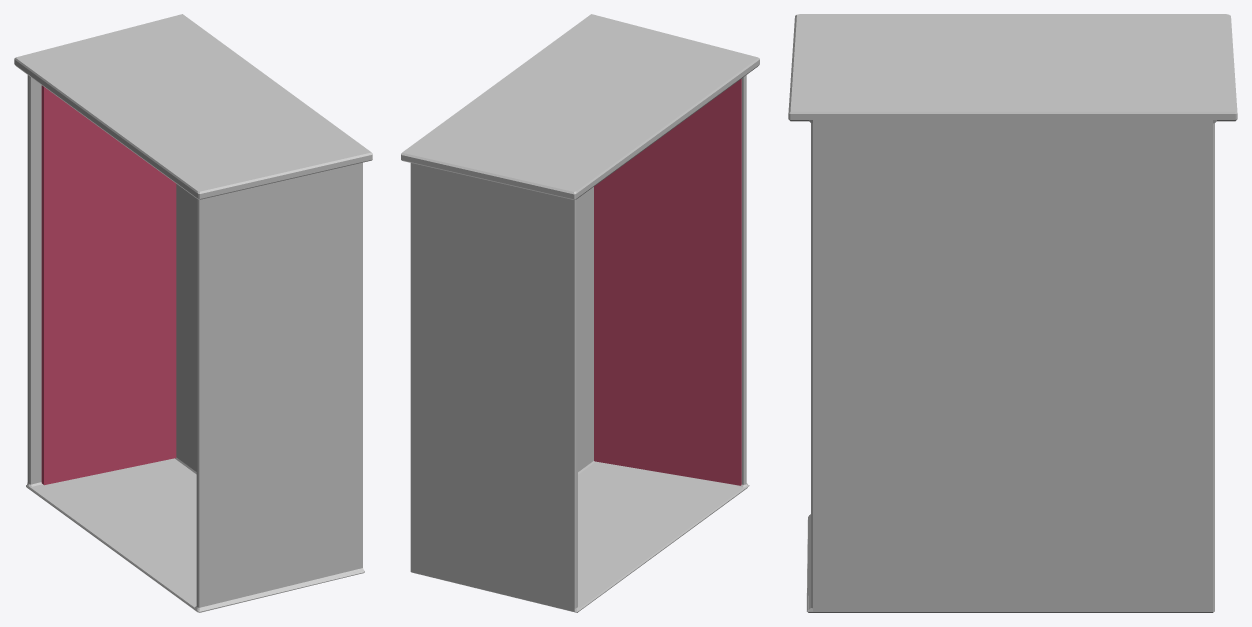
Rendered from CUBOARD-PROPR.fbx.
The picture shows the model from 3 angles, left to right: view 1: azimuth 30°, elevation 25°; view 2: azimuth 150°, elevation 25°; view 3: azimuth 270°, elevation 25°; orthographic projection. The views are drawn at different scales.
Visible parts, largest first — view 1: clotheser, Cube.005; view 2: clotheser, Cube.004; view 3: clotheser.
Boxes of the visible parts, <box> form: clotheser: <box>14,14,372,612</box>; Cube.005: <box>41,85,176,485</box>; clotheser: <box>401,14,759,612</box>; Cube.004: <box>594,79,741,485</box>; clotheser: <box>788,14,1237,612</box>.
Size of the model in its own units: 116 by 274 by 222.
